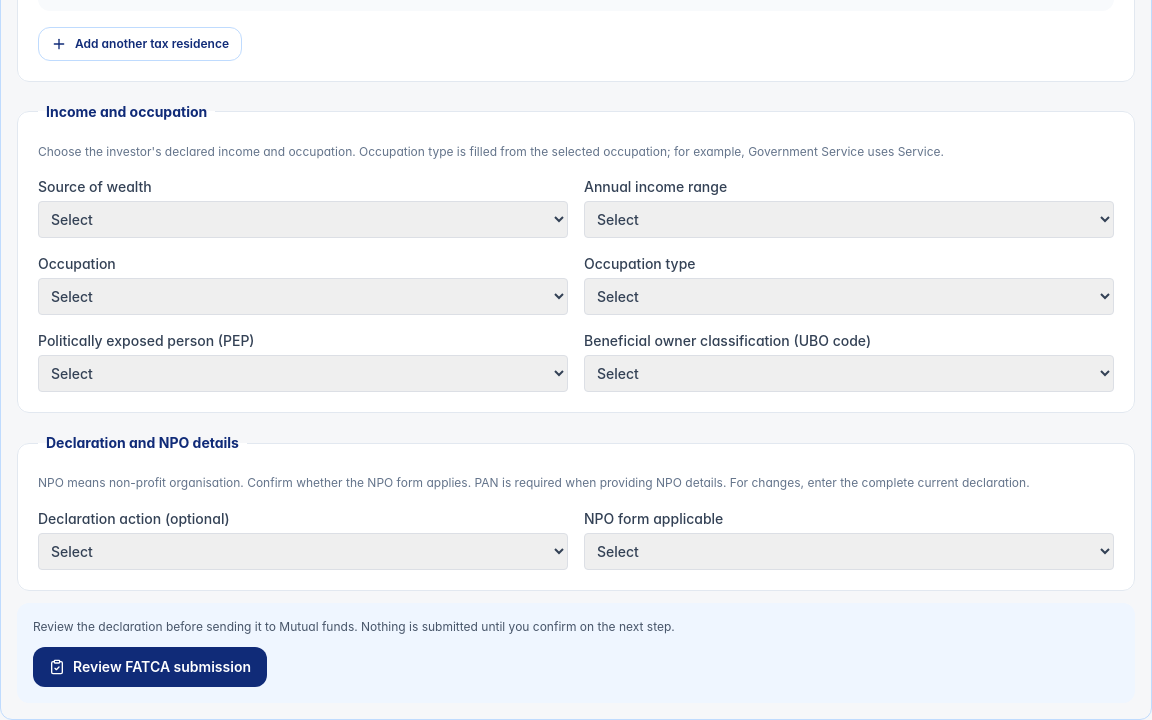
Test: shows NPO declaration and registration only when applicable
The image size is (1152, 720).
(page scrolled)
Expected: the field labelled "NPO declaration" is not shown
Select "Yes (Y)" in the dropdown labelled "NPO form applicable" at x=849, y=551, box [584,532,1114,570]
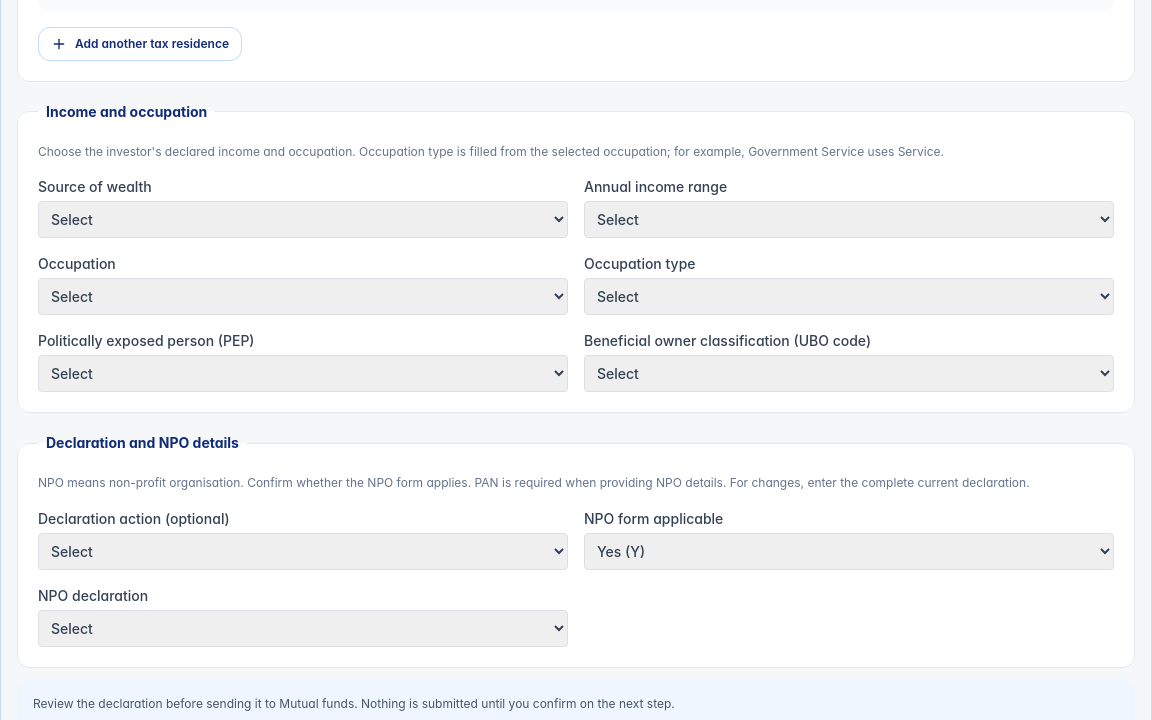
Now the dropdown labelled "NPO declaration" is shown
Select "Yes (Y)" in the dropdown labelled "NPO declaration" at x=303, y=628, box [38,610,568,646]
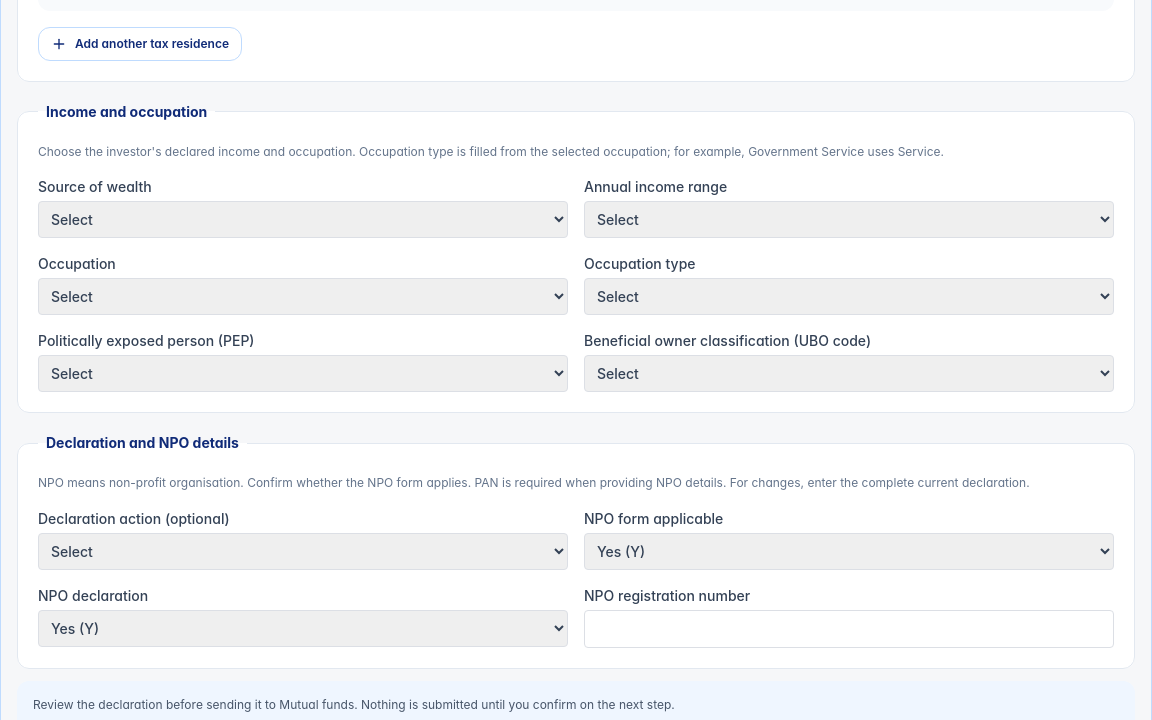
Now the field labelled "NPO registration number" is shown, box [584,610,1114,648]
Select "No (N)" in the dropdown labelled "NPO form applicable" at x=849, y=551, box [584,532,1114,570]
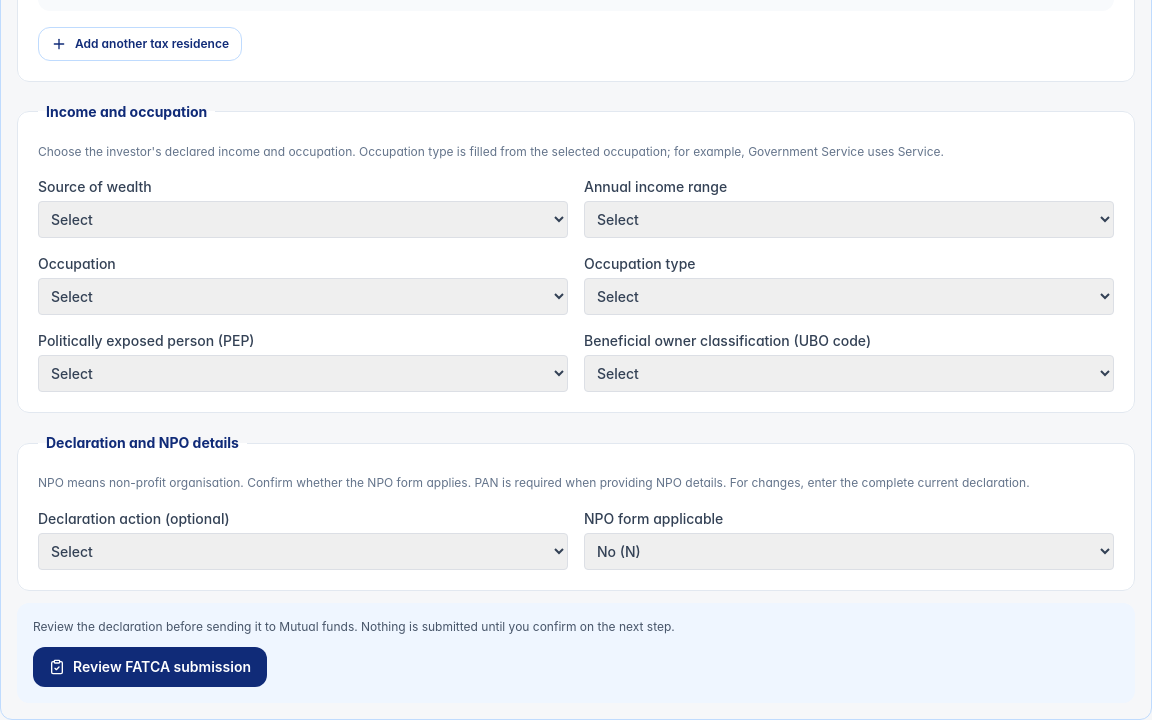
Expected: the dropdown labelled "Declaration action (optional)" is shown, [38,532,568,570]
Now the label labelled "NPO registration number" is gone
